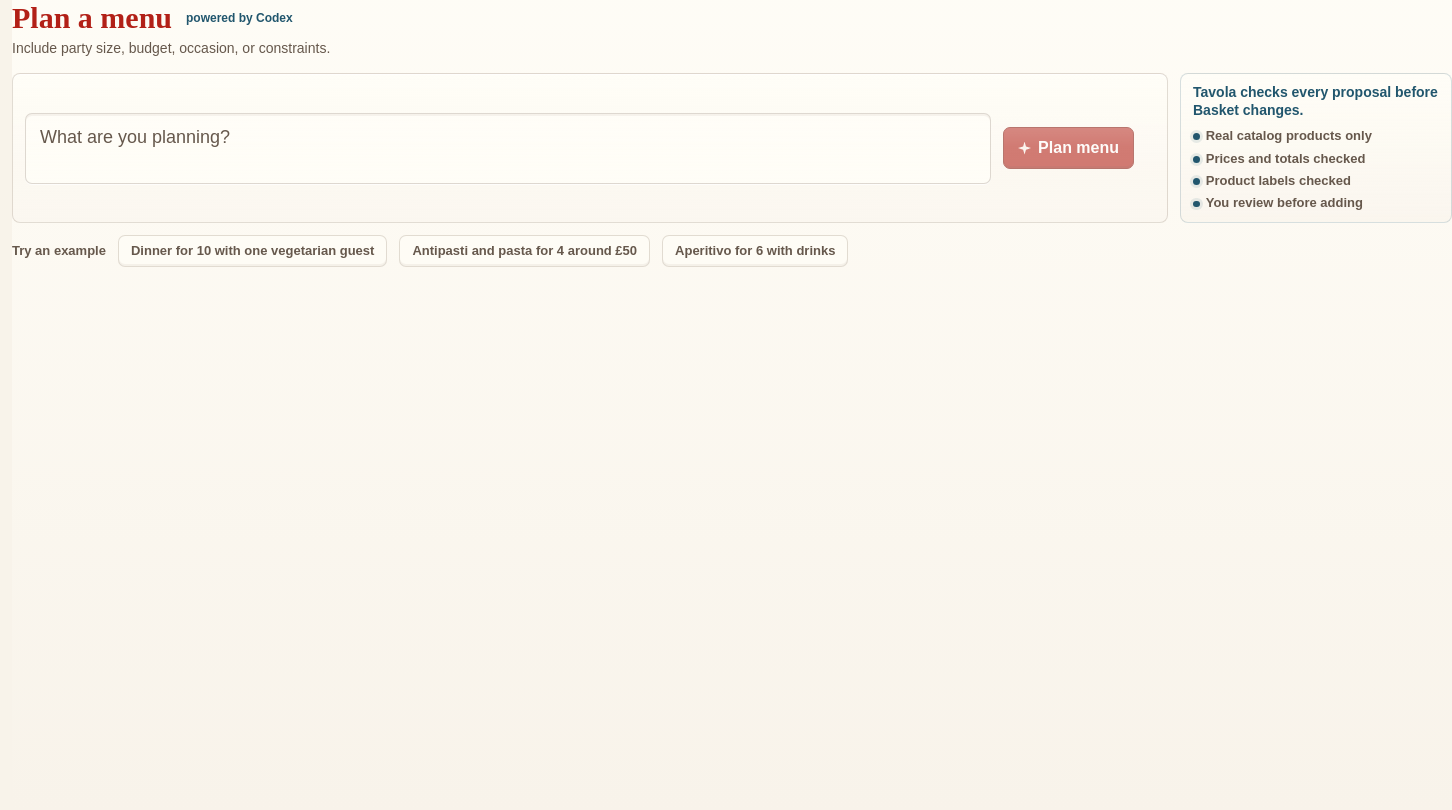
it: PlannerWorkspace › edits quantities and removes proposal lines before acceptance
In the text box named "Meal request": (508, 148) left=25, top=113, right=991, bottom=184, type "Vegetarian dinner for 4 around £50"
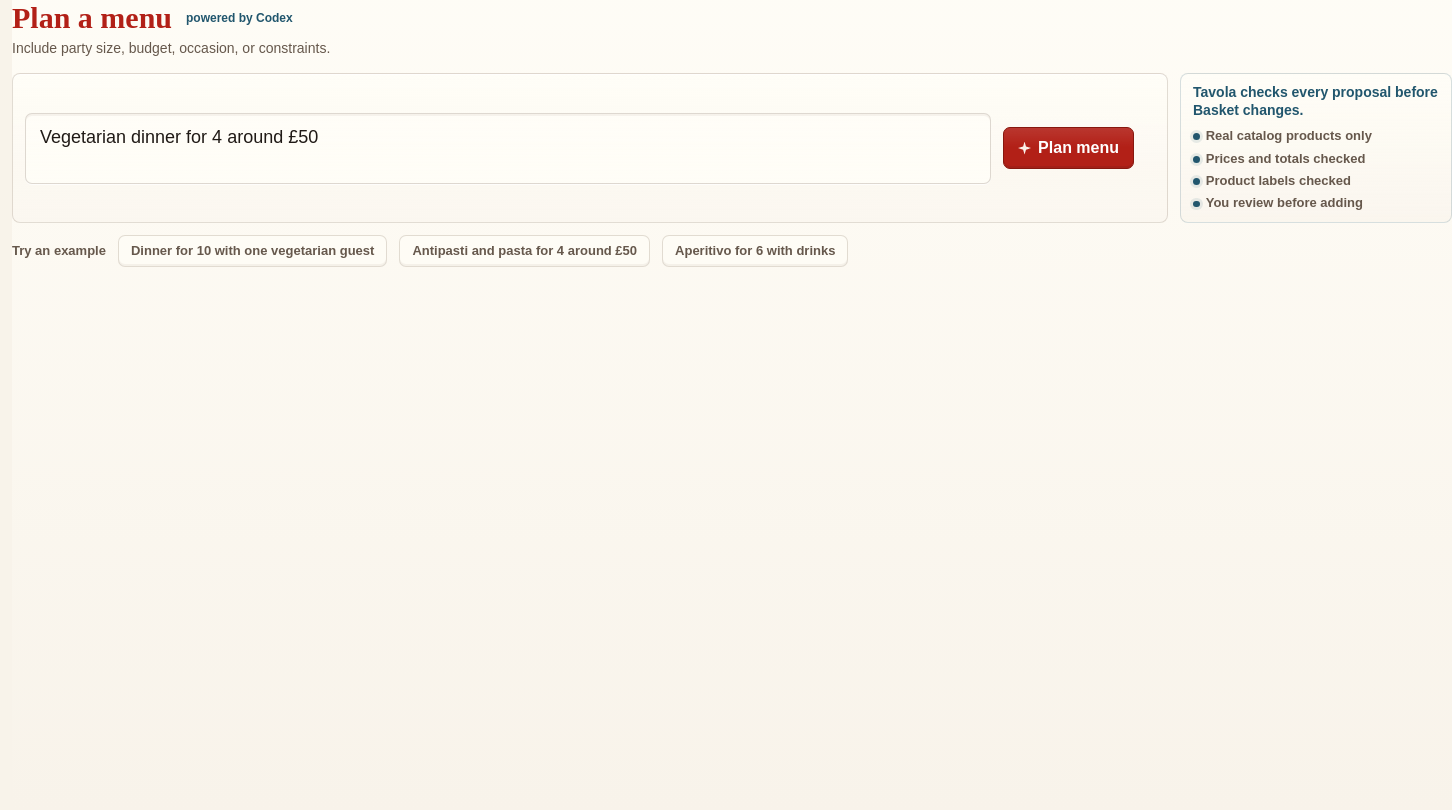
Click the button "Plan menu": (1068, 148) left=1003, top=127, right=1134, bottom=169
(page scrolled)
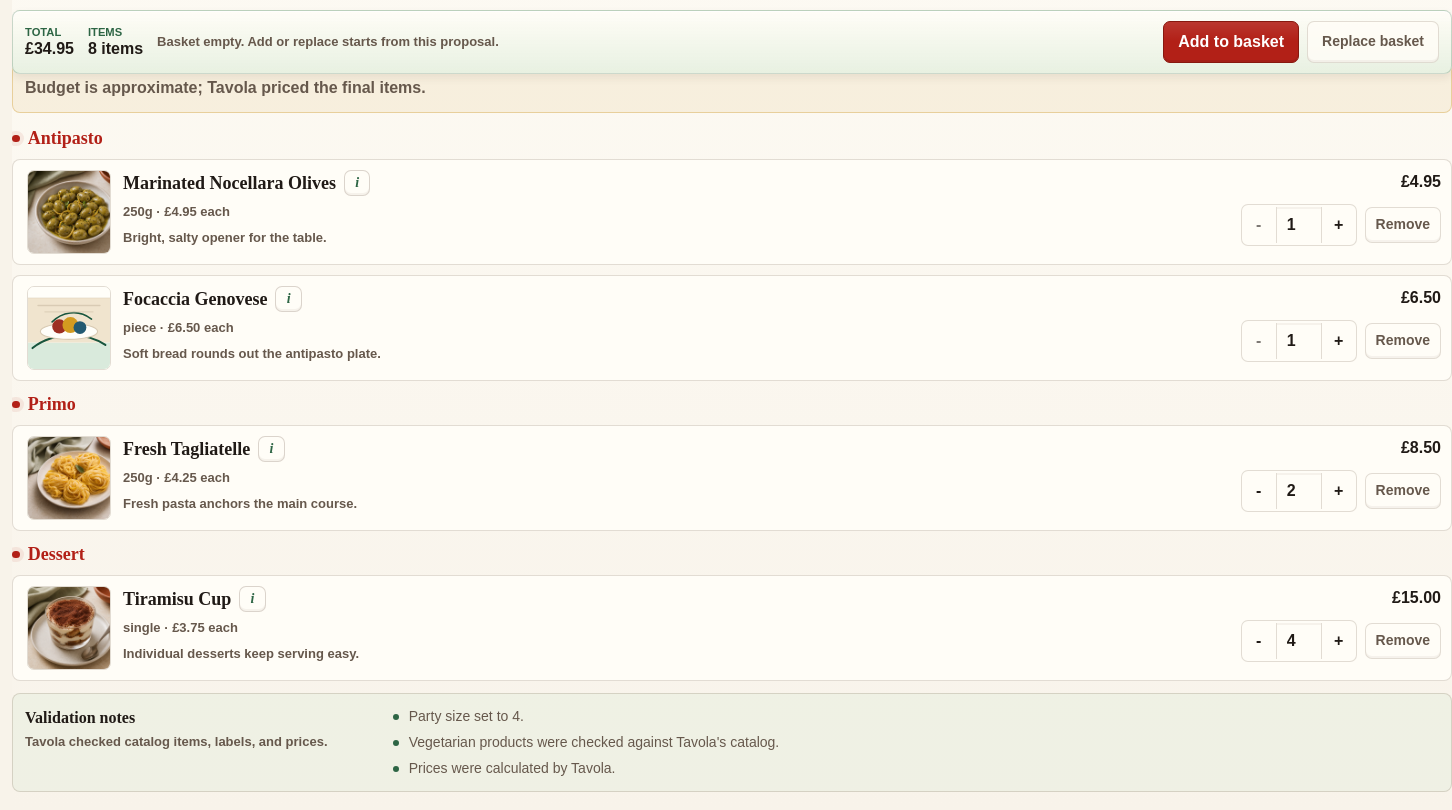
Replace the text in the number field named "Quantity for Fresh Tagliatelle" with "3": (1299, 491) left=1276, top=472, right=1322, bottom=509
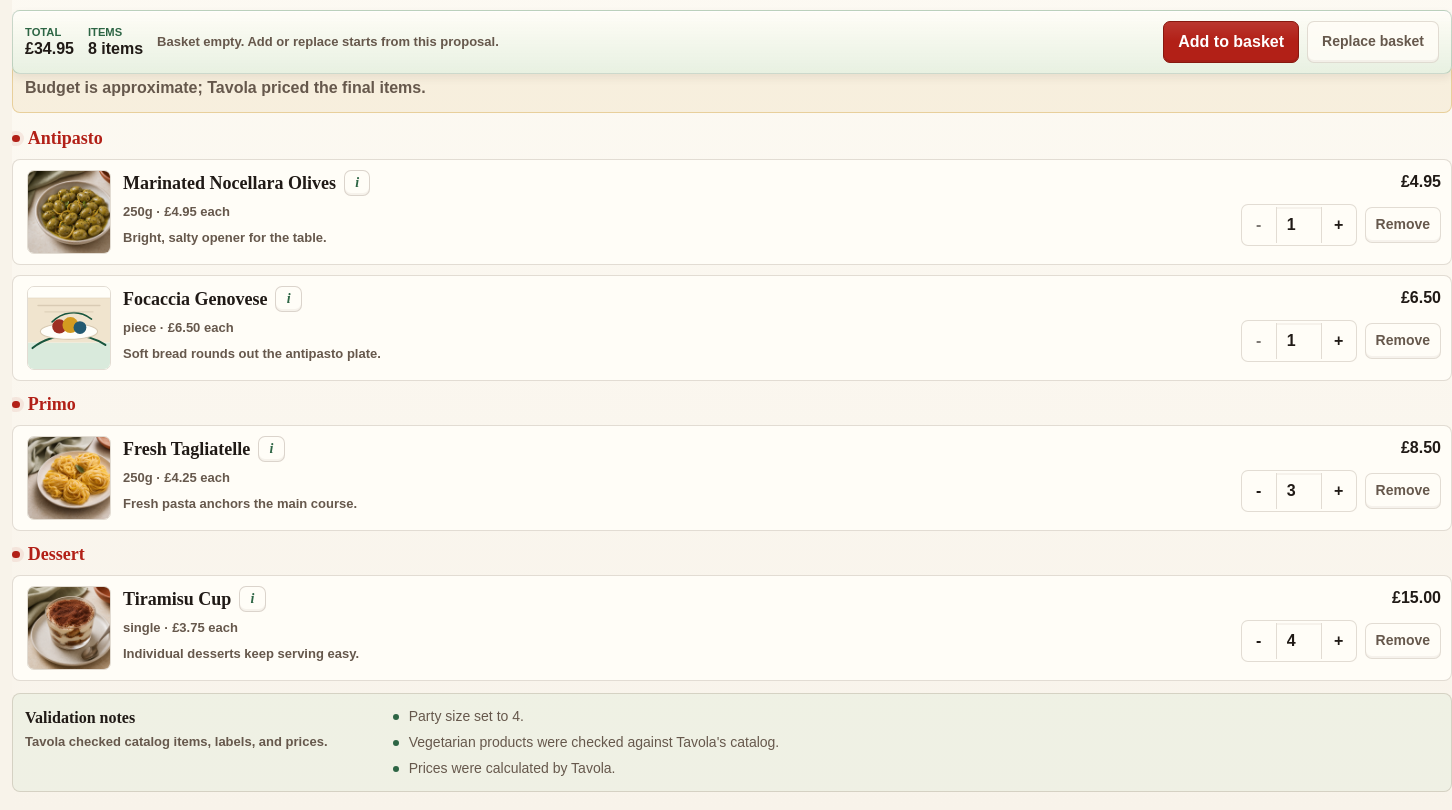
Leave the number field named "Quantity for Fresh Tagliatelle", box left=1276, top=472, right=1322, bottom=509
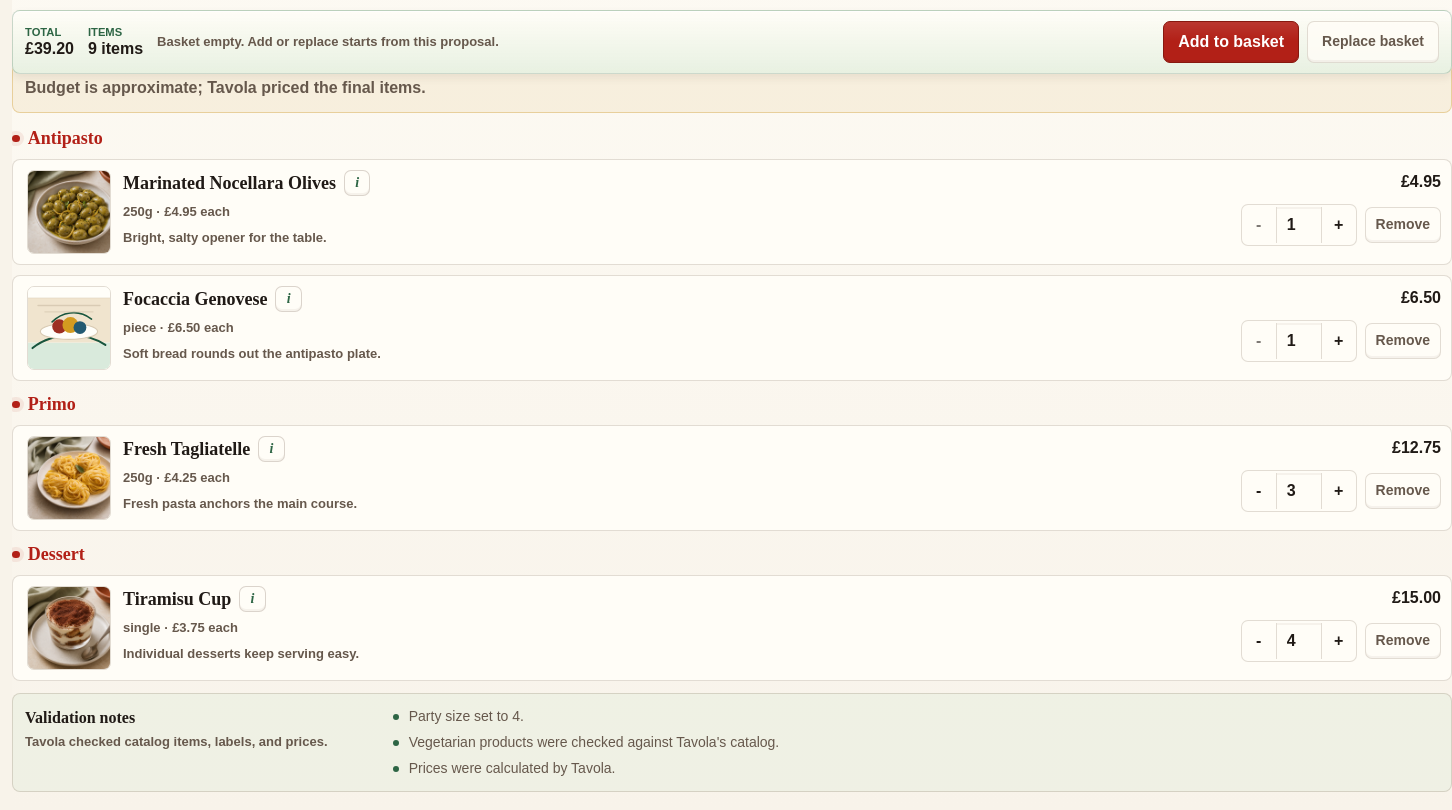
Expected: the text "£12.75" is shown, left=1392, top=436, right=1441, bottom=460
Click the button with aria-label "Remove Focaccia Genovese from proposal": (1403, 341) left=1364, top=322, right=1441, bottom=359
(page scrolled)
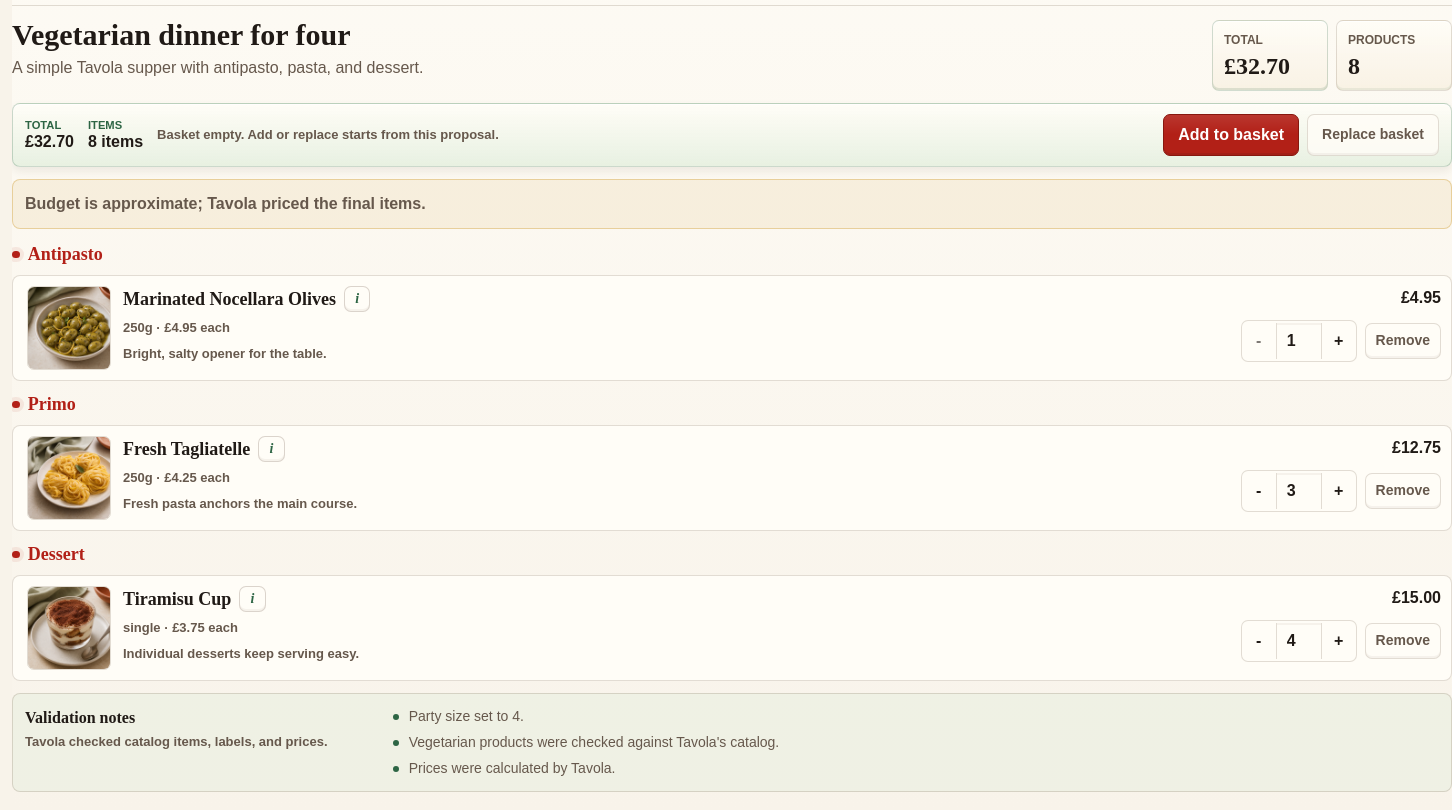
Expected: the heading "Focaccia Genovese" is gone
Expected: the text "£32.70" is shown 2 times, left=1224, top=53, right=1290, bottom=79; left=25, top=133, right=74, bottom=150
